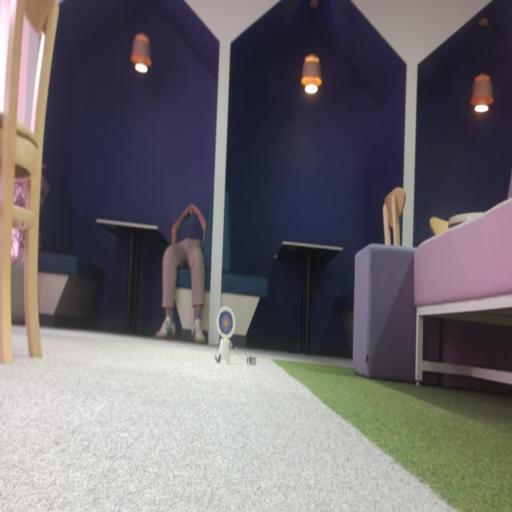target: (216, 306, 235, 340)
